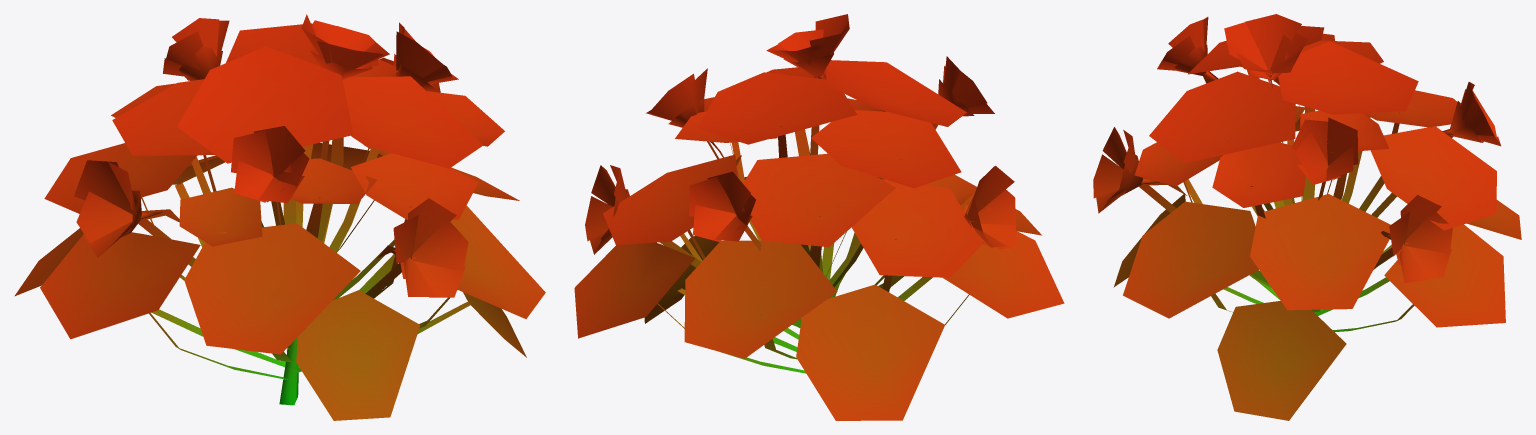
File: Var5_LOD1.fbx
3 views of the same model, side by side, from view 1: azimuth 30°, elevation 25°; view 2: azimuth 150°, elevation 25°; view 3: azimuth 270°, elevation 25° (orthographic). The views are drawn at different scales.
Parts seen in each view (by area): view 1: _bbdf_Var5_LOD1; view 2: _bbdf_Var5_LOD1; view 3: _bbdf_Var5_LOD1.
Boxes of the visible parts, x1,y1,x2,y2 form: _bbdf_Var5_LOD1: (14,14,545,420); _bbdf_Var5_LOD1: (574,14,1064,420); _bbdf_Var5_LOD1: (1093,14,1521,420).
Bounding box in the file's own units: 29.93 × 23.79 × 27.64.
